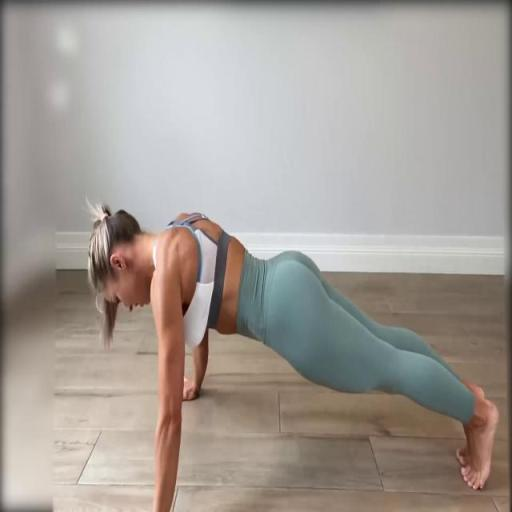Normal_Dips: (7, 190, 512, 512)
